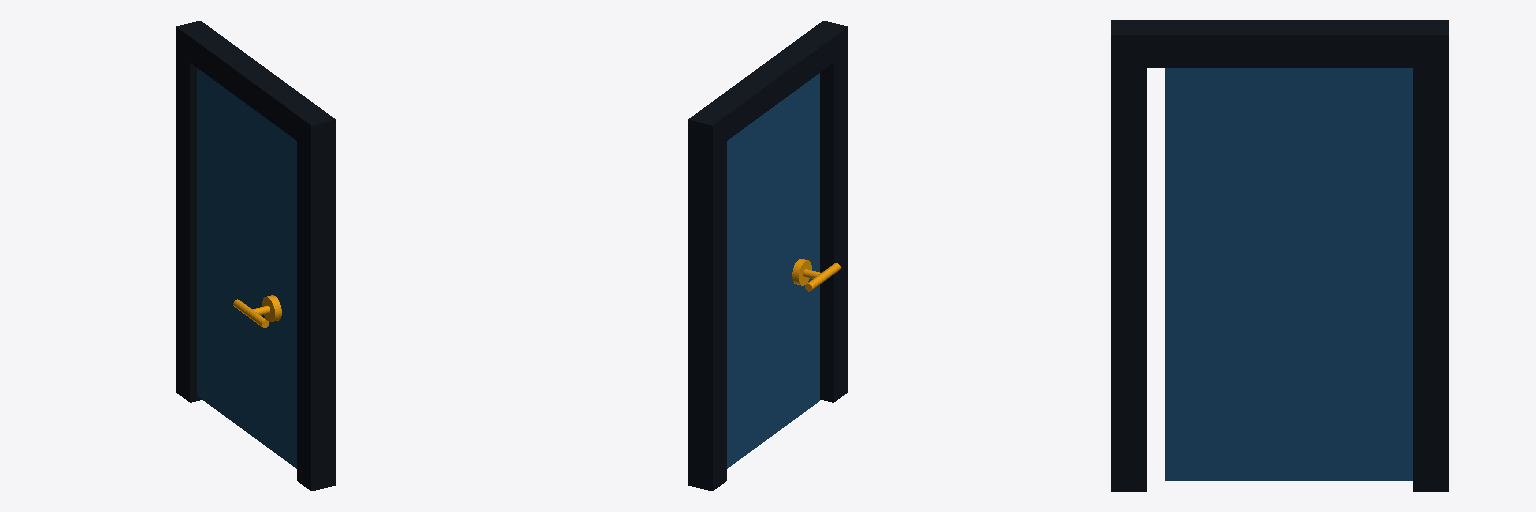
URDF robot description (service_door):
<?xml version="1.0"?>
<!-- Repository-authored push-open door for the Go2+D1 service benchmark. -->
<robot name="service_door">
  <material name="frame_dark"><color rgba="0.10 0.12 0.15 1"/></material>
  <material name="panel_blue"><color rgba="0.16 0.34 0.48 1"/></material>
  <material name="handle_gold"><color rgba="0.92 0.63 0.08 1"/></material>

  <link name="frame">
    <inertial>
      <origin xyz="0 -0.51 0.85" rpy="0 0 0"/>
      <mass value="45"/>
      <inertia ixx="18.0" ixy="0" ixz="0" iyy="6.0" iyz="0" izz="14.0"/>
    </inertial>
    <visual name="hinge_jamb_visual"><origin xyz="0 0 0.85"/><geometry><box size="0.12 0.12 1.70"/></geometry><material name="frame_dark"/></visual>
    <collision name="hinge_jamb"><origin xyz="0 0 0.85"/><geometry><box size="0.12 0.12 1.70"/></geometry></collision>
    <visual name="far_jamb_visual"><origin xyz="0 -1.02 0.85"/><geometry><box size="0.12 0.12 1.70"/></geometry><material name="frame_dark"/></visual>
    <collision name="far_jamb"><origin xyz="0 -1.02 0.85"/><geometry><box size="0.12 0.12 1.70"/></geometry></collision>
    <visual name="header_visual"><origin xyz="0 -0.51 1.64"/><geometry><box size="0.12 1.14 0.12"/></geometry><material name="frame_dark"/></visual>
    <collision name="header"><origin xyz="0 -0.51 1.64"/><geometry><box size="0.12 1.14 0.12"/></geometry></collision>
  </link>

  <link name="panel">
    <inertial>
      <origin xyz="0 -0.45 0" rpy="0 0 0"/>
      <mass value="8"/>
      <inertia ixx="2.14" ixy="0" ixz="0" iyy="1.60" iyz="0" izz="0.54"/>
    </inertial>
    <visual name="panel_slab_visual"><origin xyz="0 -0.45 0"/><geometry><box size="0.055 0.90 1.55"/></geometry><material name="panel_blue"/></visual>
    <collision name="panel_slab"><origin xyz="0 -0.45 0"/><geometry><box size="0.055 0.90 1.55"/></geometry></collision>
    <visual name="handle_rose_visual"><origin xyz="-0.043 -0.72 -0.10" rpy="0 1.57079632679 0"/><geometry><cylinder radius="0.055" length="0.035"/></geometry><material name="handle_gold"/></visual>
    <collision name="handle_rose"><origin xyz="-0.043 -0.72 -0.10" rpy="0 1.57079632679 0"/><geometry><cylinder radius="0.055" length="0.035"/></geometry></collision>
    <visual name="handle_neck_visual"><origin xyz="-0.100 -0.72 -0.10" rpy="0 1.57079632679 0"/><geometry><cylinder radius="0.017" length="0.090"/></geometry><material name="handle_gold"/></visual>
    <collision name="handle_neck"><origin xyz="-0.100 -0.72 -0.10" rpy="0 1.57079632679 0"/><geometry><cylinder radius="0.017" length="0.090"/></geometry></collision>
    <visual name="lever_grip_visual"><origin xyz="-0.145 -0.72 -0.10" rpy="1.57079632679 0 0"/><geometry><cylinder radius="0.018" length="0.24"/></geometry><material name="handle_gold"/></visual>
    <collision name="lever_grip"><origin xyz="-0.145 -0.72 -0.10" rpy="1.57079632679 0 0"/><geometry><cylinder radius="0.018" length="0.24"/></geometry></collision>
  </link>

  <joint name="door_hinge" type="revolute">
    <parent link="frame"/>
    <child link="panel"/>
    <origin xyz="0 0 0.80" rpy="0 0 0"/>
    <axis xyz="0 0 1"/>
    <limit lower="0" upper="1.74532925199" effort="25" velocity="2"/>
    <dynamics damping="1.2" friction="0.15"/>
  </joint>
</robot>

--- Render facts (derived) ---
3 views of the same robot in one strip: view 1: azimuth 30°, elevation 25°; view 2: azimuth 150°, elevation 25°; view 3: azimuth 270°, elevation 25° (orthographic).
Model service_door with 2 links and 1 joints (1 revolute), rooted at frame, posed all joints at 0.
Links seen in each view (by area): view 1: panel, frame; view 2: panel, frame; view 3: panel, frame.
Boxes of the visible links, box(x1,y1,x2,y2) form: panel: box(197, 68, 296, 468); frame: box(176, 21, 335, 490); panel: box(727, 73, 840, 468); frame: box(688, 21, 847, 490); panel: box(1165, 68, 1412, 480); frame: box(1111, 20, 1448, 491).
Size in the robot's own frame: 0.223 by 1.14 by 1.7 metres.
Geometry: primitives only (box / cylinder / sphere), no mesh files.
